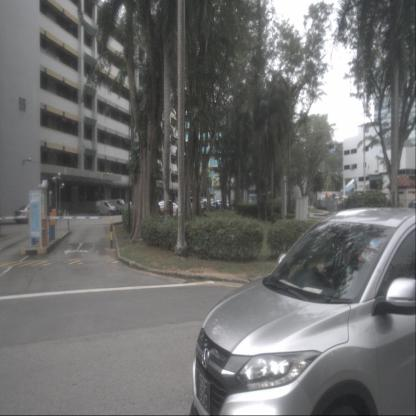vehicle-car: (191, 207, 415, 415), (15, 205, 44, 223), (96, 200, 116, 216), (157, 200, 173, 217), (408, 198, 416, 212), (199, 201, 208, 211), (216, 200, 224, 209), (211, 201, 219, 210)
vehicle-truck: (106, 199, 125, 215)
